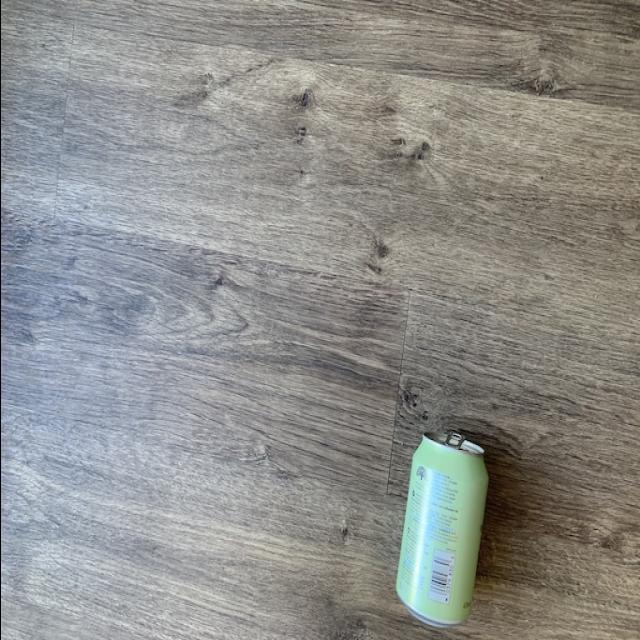Aluminum Can: (390, 430, 488, 634)
